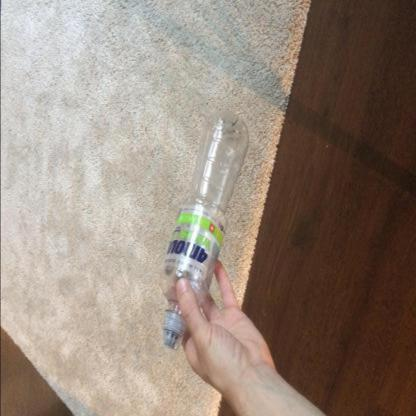Bottle cap: (160, 110, 249, 351)
